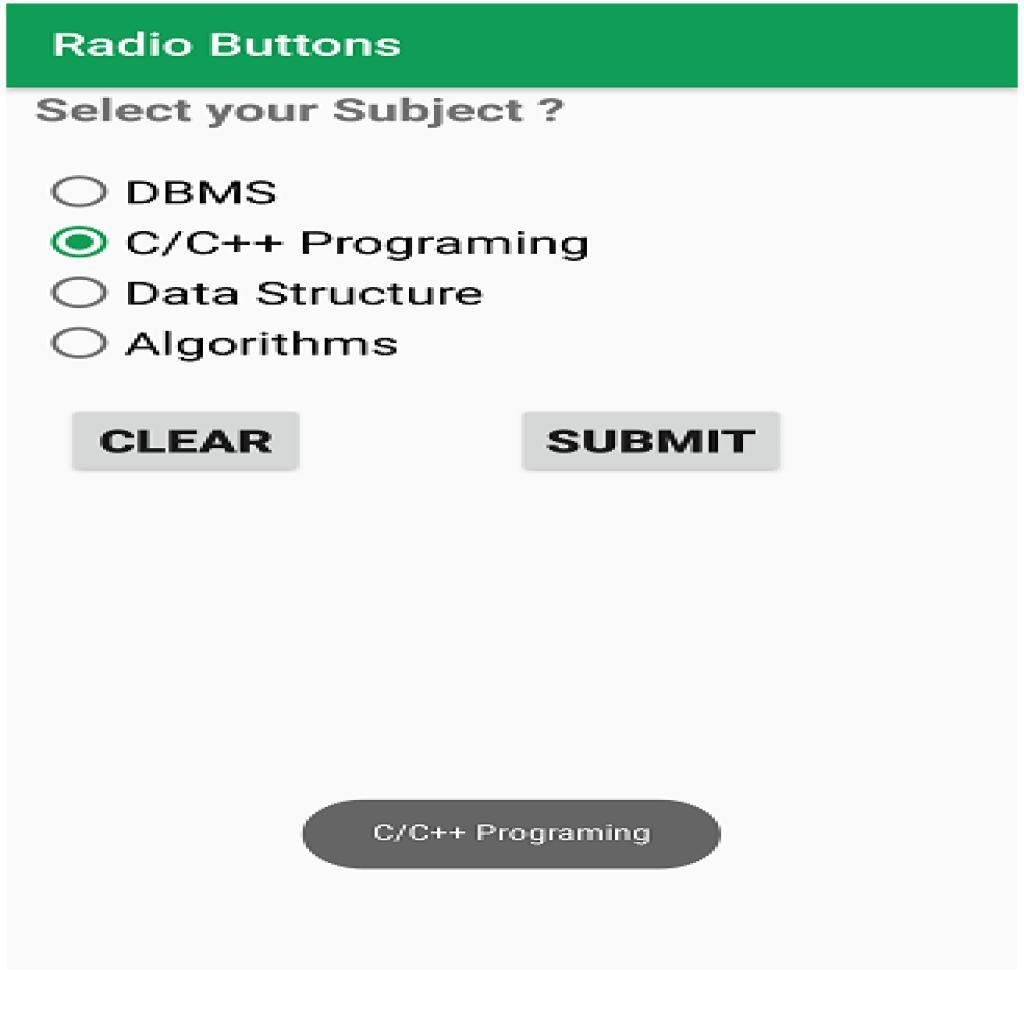button: (304, 799, 718, 871), (520, 413, 783, 474), (74, 413, 302, 474)
label: (36, 90, 566, 131), (125, 227, 595, 265), (119, 277, 486, 315), (127, 320, 405, 370), (126, 174, 276, 211)
radio: (46, 327, 114, 364), (48, 222, 111, 260), (49, 275, 114, 311), (50, 174, 112, 211)
